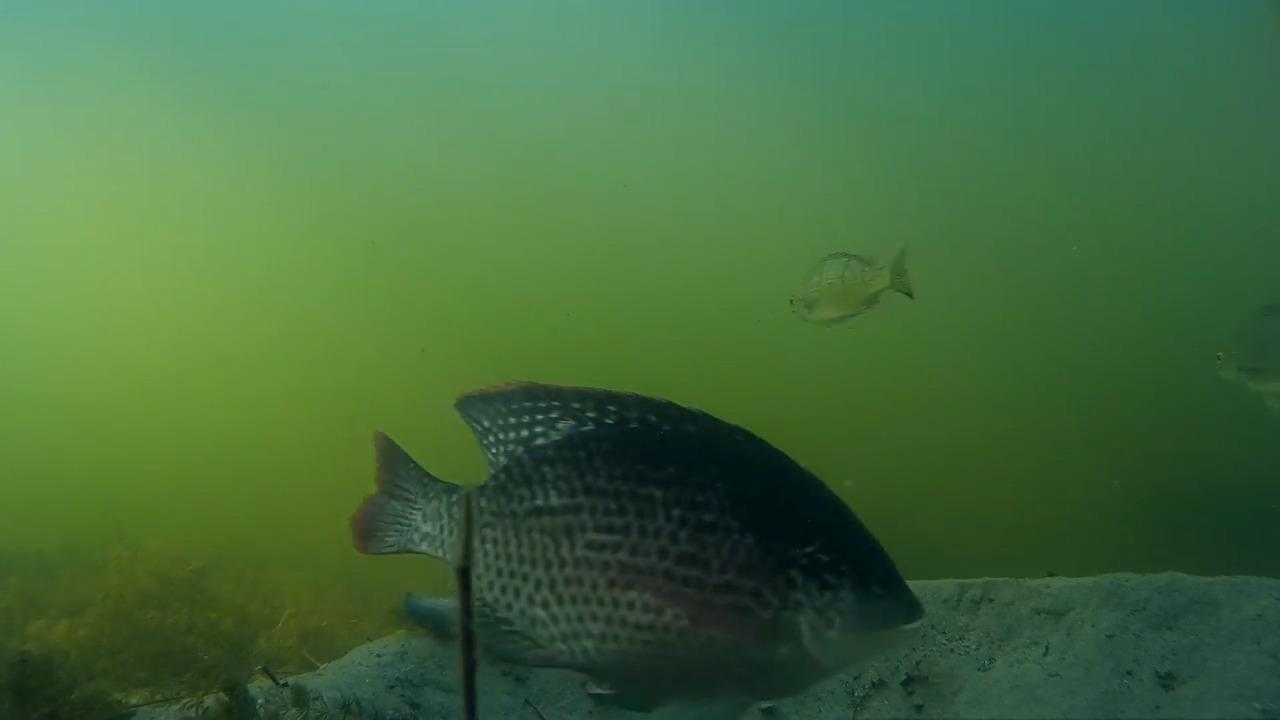Tilapia: (348, 372, 925, 720), (777, 240, 924, 336), (1215, 298, 1280, 412)
